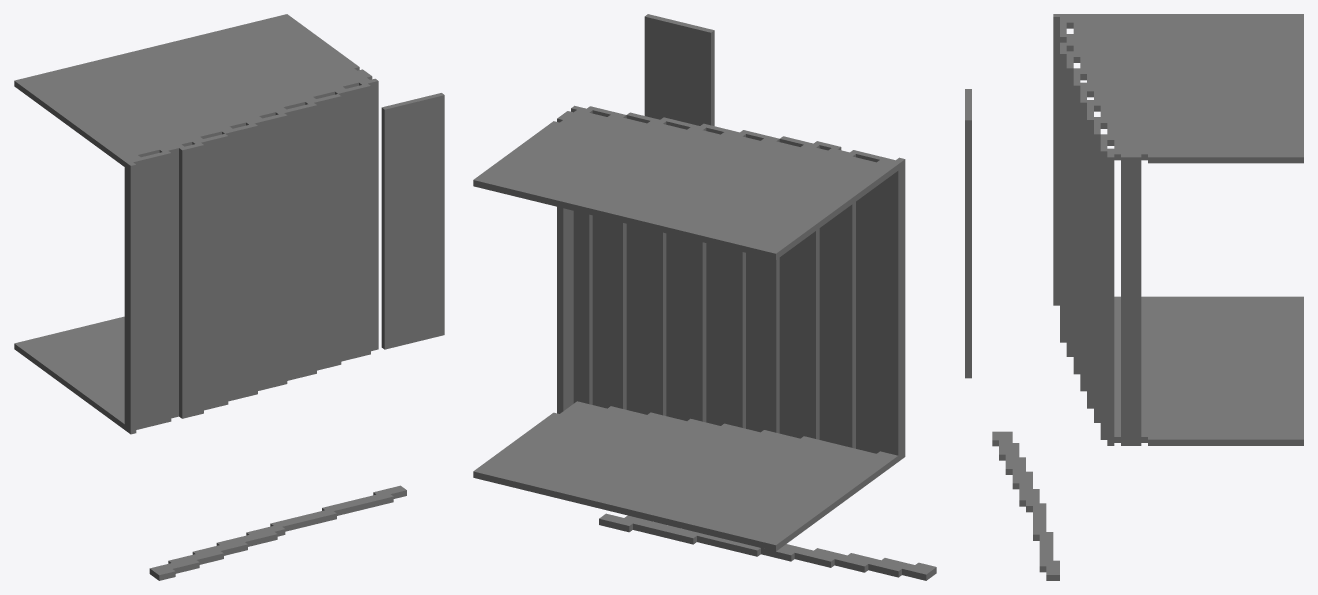
Rendered from tile_0_5.glb.
3 views of the same model, side by side, from view 1: azimuth 30°, elevation 25°; view 2: azimuth 150°, elevation 25°; view 3: azimuth 270°, elevation 25° (orthographic). The views are drawn at different scales.
Parts seen in each view (by area): view 1: universal_minecraft:concrete:south, universal_minecraft:stained_terracotta:up, universal_minecraft:stone_bricks:south, universal_minecraft:grass_block:up, universal_minecraft:concrete:up, universal_minecraft:concrete:west, universal_minecraft:stone_bricks:west, universal_minecraft:stained_terracotta:west, universal_minecraft:grass_block:west; view 2: universal_minecraft:concrete:north, universal_minecraft:grass_block:up, universal_minecraft:stained_terracotta:up, universal_minecraft:concrete:west, universal_minecraft:stone_bricks:north, universal_minecraft:concrete:up, universal_minecraft:stained_terracotta:north, universal_minecraft:grass_block:north, universal_minecraft:stained_terracotta:west, universal_minecraft:grass_block:west; view 3: universal_minecraft:stained_terracotta:up, universal_minecraft:concrete:east, universal_minecraft:grass_block:up, universal_minecraft:concrete:up, universal_minecraft:stone_bricks:east, universal_minecraft:stained_terracotta:east, universal_minecraft:grass_block:east.
Boxes of the visible parts, x1,y1,x2,y2 form: universal_minecraft:concrete:south: (130, 76, 406, 580); universal_minecraft:stained_terracotta:up: (14, 14, 369, 161); universal_minecraft:stone_bricks:south: (384, 95, 444, 349); universal_minecraft:grass_block:up: (14, 316, 124, 423); universal_minecraft:concrete:up: (125, 69, 406, 575); universal_minecraft:concrete:west: (124, 83, 375, 580); universal_minecraft:stone_bricks:west: (381, 108, 384, 349); universal_minecraft:stained_terracotta:west: (14, 81, 124, 166); universal_minecraft:grass_block:west: (14, 344, 124, 429); universal_minecraft:concrete:north: (557, 108, 926, 580); universal_minecraft:grass_block:up: (473, 401, 897, 545); universal_minecraft:stained_terracotta:up: (473, 110, 897, 253); universal_minecraft:concrete:west: (563, 110, 936, 580); universal_minecraft:stone_bricks:north: (644, 16, 710, 125); universal_minecraft:concrete:up: (557, 105, 936, 574); universal_minecraft:stained_terracotta:north: (473, 180, 775, 259); universal_minecraft:grass_block:north: (473, 471, 775, 551); universal_minecraft:stained_terracotta:west: (776, 164, 898, 259); universal_minecraft:grass_block:west: (776, 456, 898, 551); universal_minecraft:stained_terracotta:up: (1066, 14, 1303, 157); universal_minecraft:concrete:east: (992, 17, 1141, 580); universal_minecraft:grass_block:up: (1114, 296, 1303, 439); universal_minecraft:concrete:up: (992, 14, 1141, 574); universal_minecraft:stone_bricks:east: (965, 120, 971, 378); universal_minecraft:stained_terracotta:east: (1066, 22, 1303, 163); universal_minecraft:grass_block:east: (1114, 437, 1303, 445).
Bounding box in the file's own units: 50 × 75 × 50.
24 materials, 24 textured.
